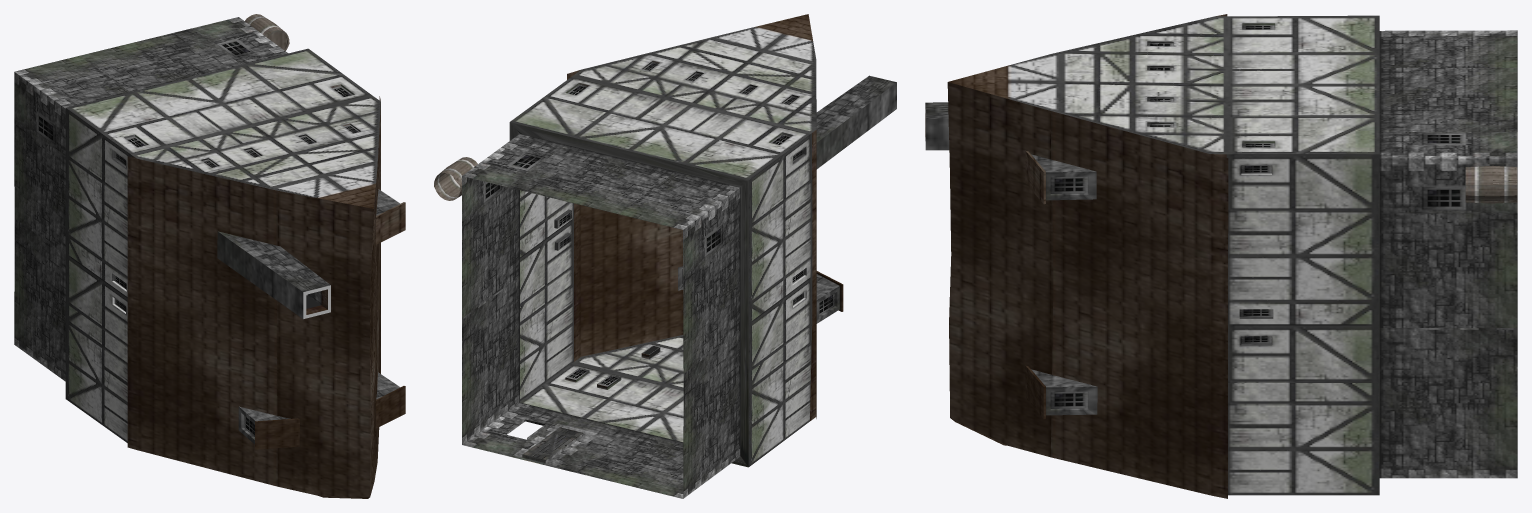
Rendered from fwHouse12_wtf.obj.
3 views of the same model, side by side, from view 1: azimuth 30°, elevation 25°; view 2: azimuth 150°, elevation 25°; view 3: azimuth 270°, elevation 25° (orthographic). The views are drawn at different scales.
Parts seen in each view (by area): view 1: group3, group11, group17, group13, group7, group4, group9, group23, group5, group14, group19, group6 (+5 smaller); view 2: group11, group3, group7, group5, group13, group4, group8, group9, group23, group14, group21, group6 (+6 smaller); view 3: group3, group11, group17, group13, group7, group4, group5, group9, group23, group14, group6, group12 (+5 smaller).
Part boxes in pixels (x1,y1,x2,y2): group3: (127, 96, 380, 486); group11: (66, 48, 380, 498); group17: (255, 167, 405, 497); group13: (65, 108, 132, 296); group7: (14, 218, 65, 381); group4: (65, 303, 127, 442); group9: (14, 17, 288, 108); group23: (80, 28, 241, 91); group5: (14, 119, 65, 254); group14: (65, 253, 127, 346); group19: (255, 203, 405, 449); group6: (14, 72, 65, 155); group11: (510, 14, 816, 441); group3: (567, 70, 816, 420); group7: (462, 276, 740, 498); group5: (462, 187, 740, 373); group13: (520, 133, 812, 322); group4: (520, 267, 812, 466); group8: (462, 402, 683, 498); group9: (462, 133, 739, 462); group23: (508, 145, 675, 213); group14: (520, 209, 812, 372); group21: (509, 122, 748, 467); group6: (462, 176, 740, 276); group3: (1050, 14, 1228, 498); group11: (925, 15, 1379, 445); group17: (947, 82, 1053, 457); group13: (1226, 154, 1379, 324); group7: (1379, 328, 1517, 478); group4: (1228, 383, 1379, 495); group5: (1379, 213, 1517, 327); group9: (1379, 30, 1517, 158); group23: (1379, 68, 1517, 131); group14: (1228, 317, 1379, 382); group6: (1379, 158, 1517, 213); group12: (1050, 25, 1274, 408).
Size of the model in its own units: 398 by 432 by 660.
